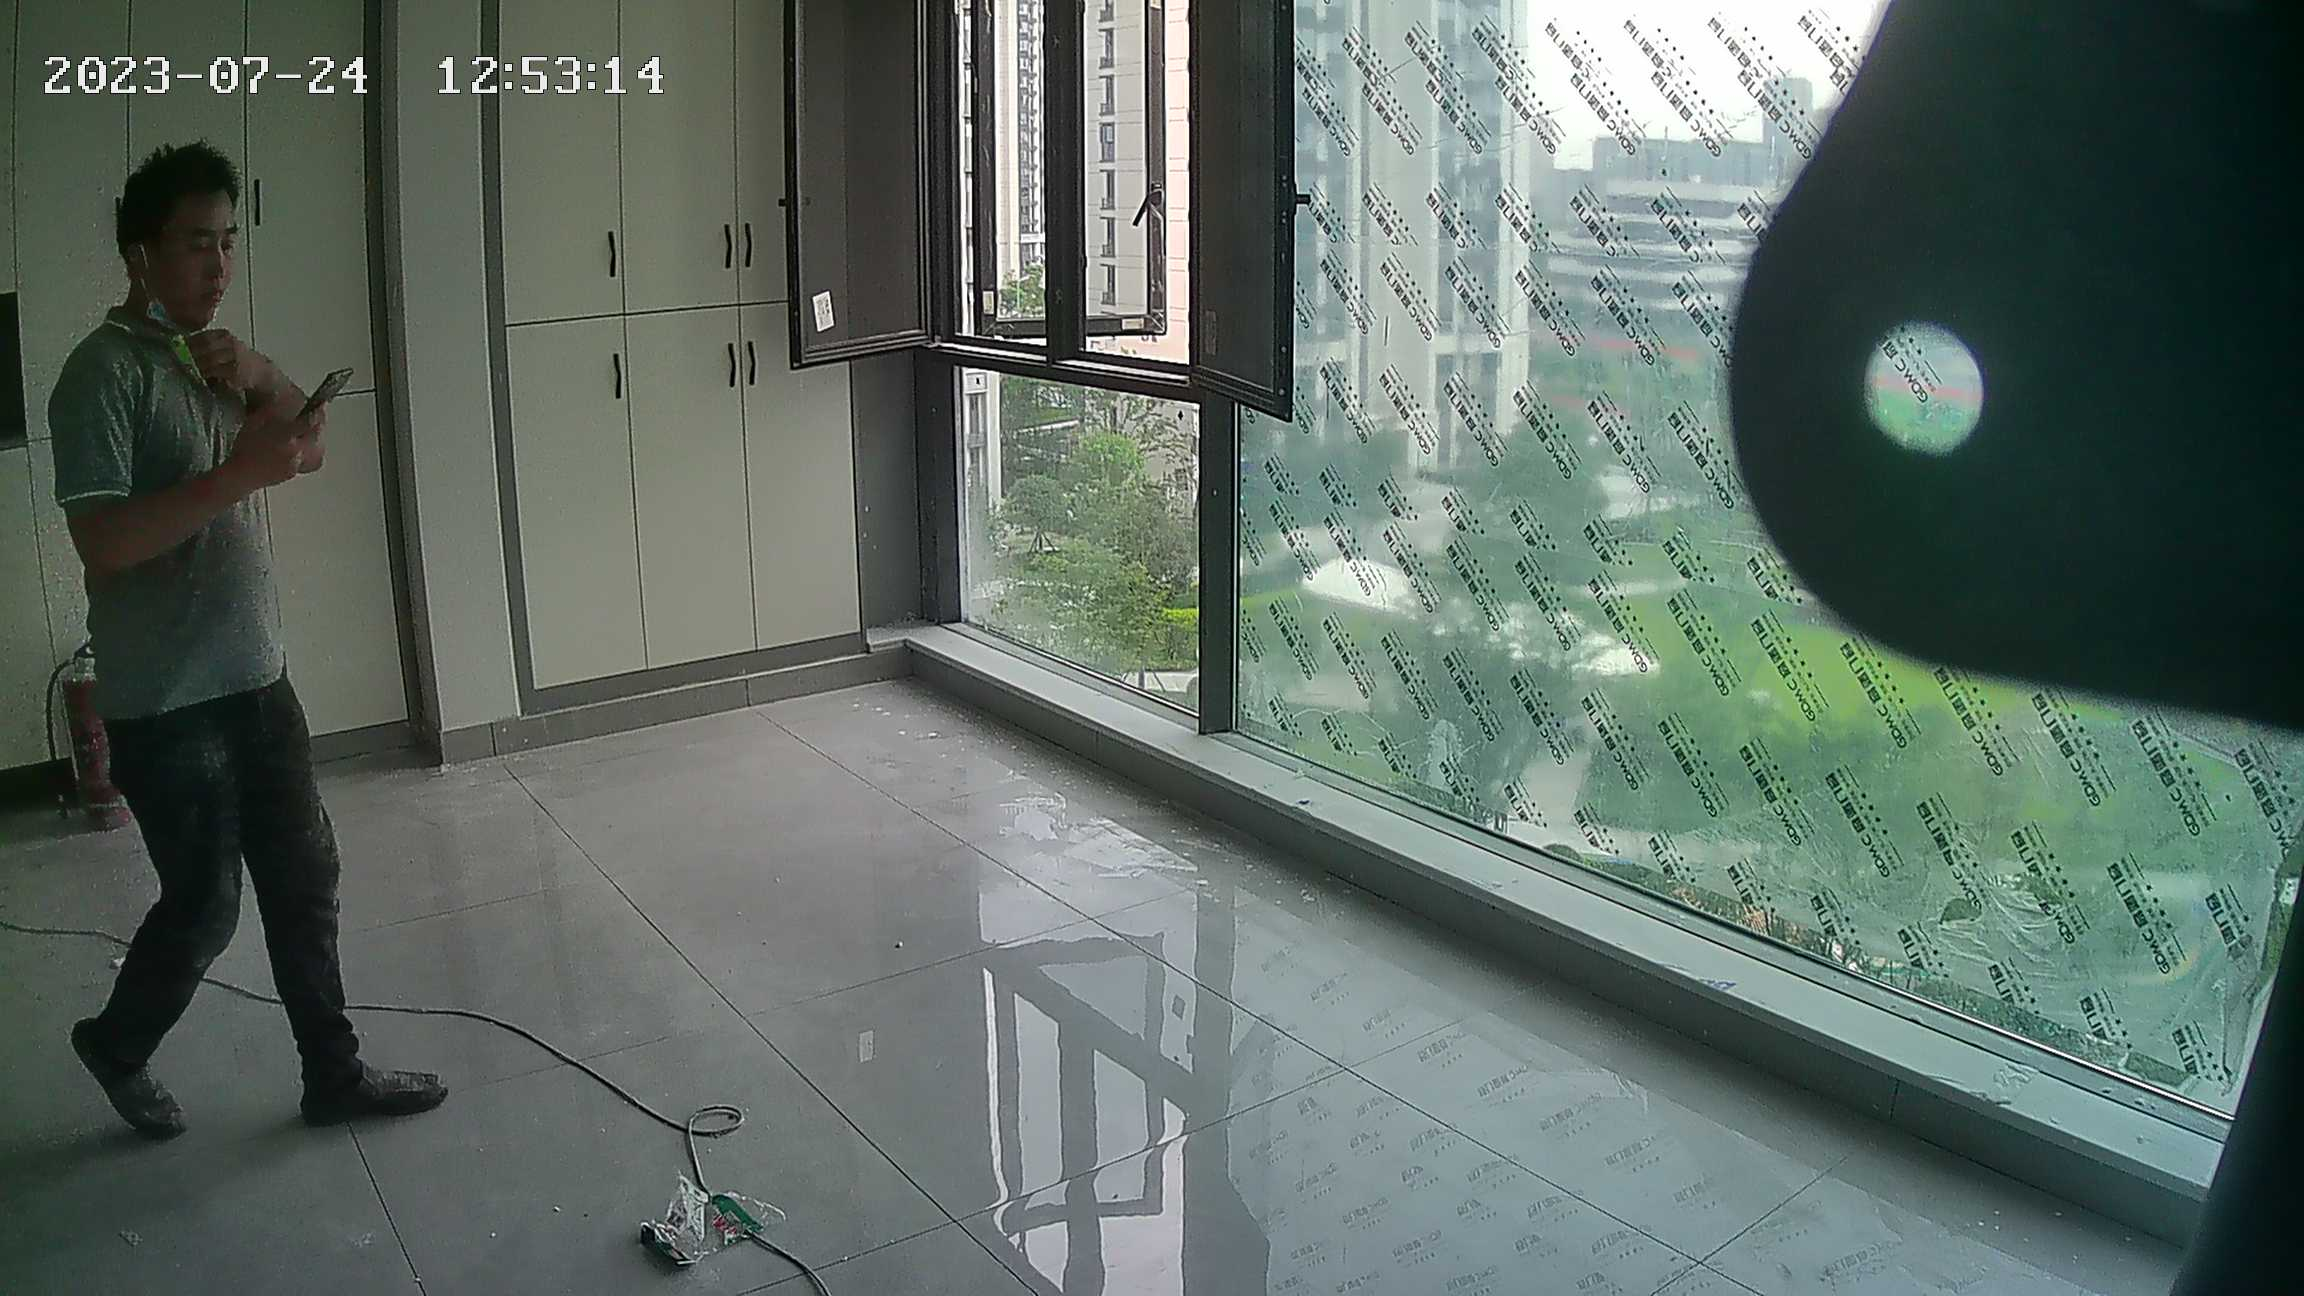people: (45, 147, 443, 1132)
window: (894, 7, 2255, 1060)
